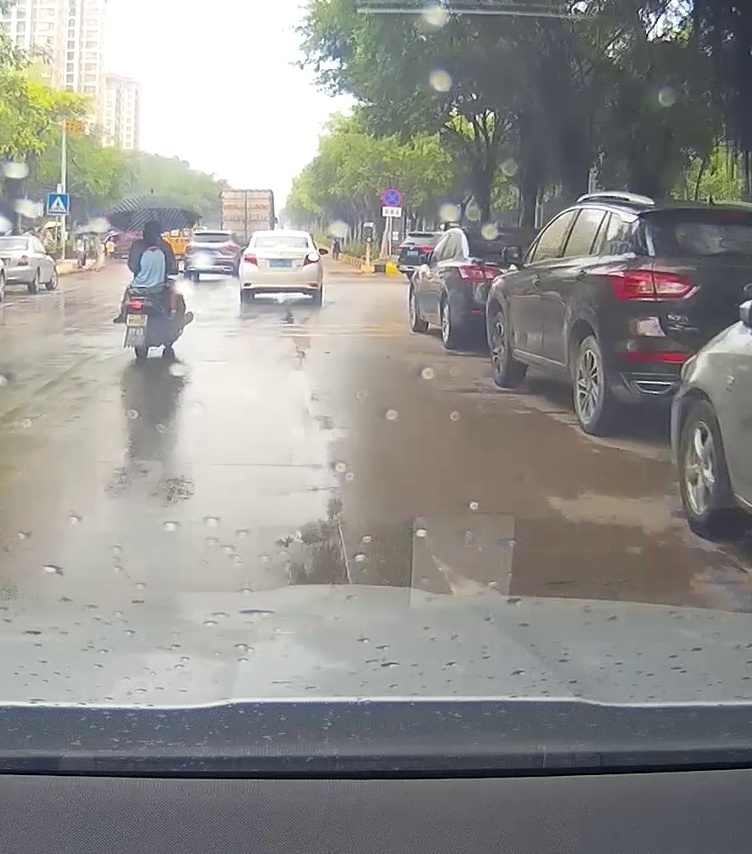L_light: (243, 252, 258, 266)
R_light: (302, 251, 321, 267)
T_light: (273, 237, 287, 238)
day-right: (239, 229, 322, 304)
